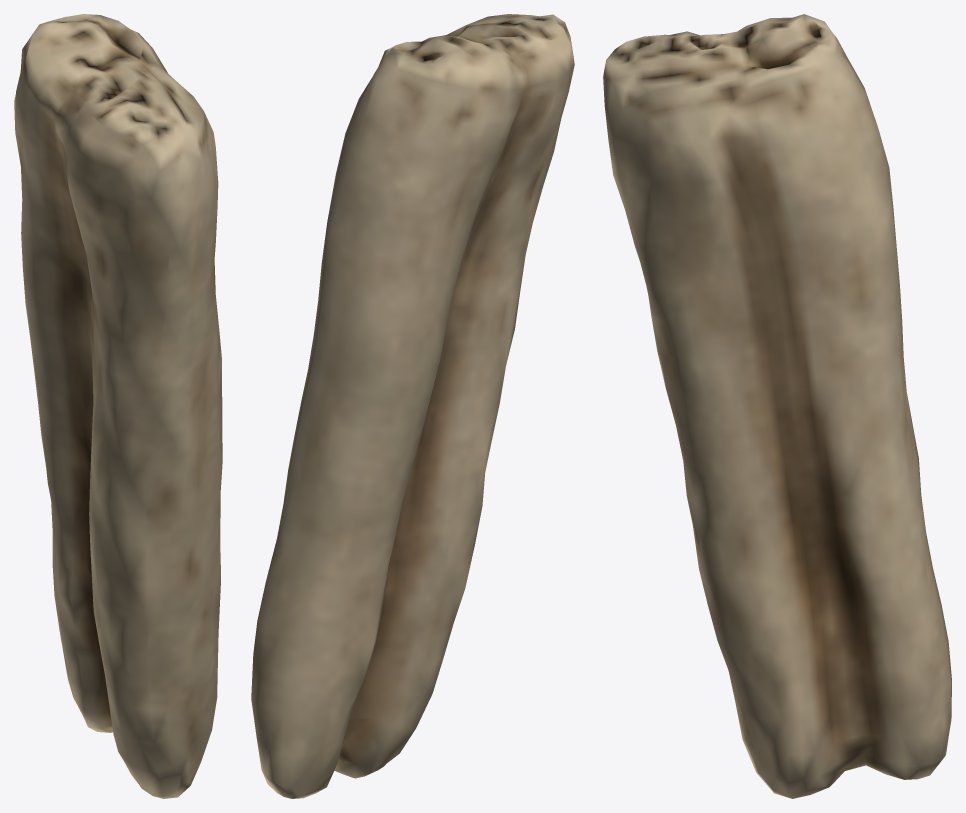
The model's file is Mandibular_Premolar5.glb.
3 renders of one model, left to right at view 1: azimuth 30°, elevation 25°; view 2: azimuth 150°, elevation 25°; view 3: azimuth 270°, elevation 25°, orthographic. The views are drawn at different scales.
Parts seen in each view (by area): view 1: Group6281_Mesh.019; view 2: Group6281_Mesh.019; view 3: Group6281_Mesh.019.
Boxes of the visible parts, x1,y1,x2,y2 form: Group6281_Mesh.019: [14, 14, 222, 798]; Group6281_Mesh.019: [251, 14, 574, 798]; Group6281_Mesh.019: [603, 14, 951, 798].
Size of the model in its own units: 0.0216 by 0.0803 by 0.0346.
1 material, 1 textured.
